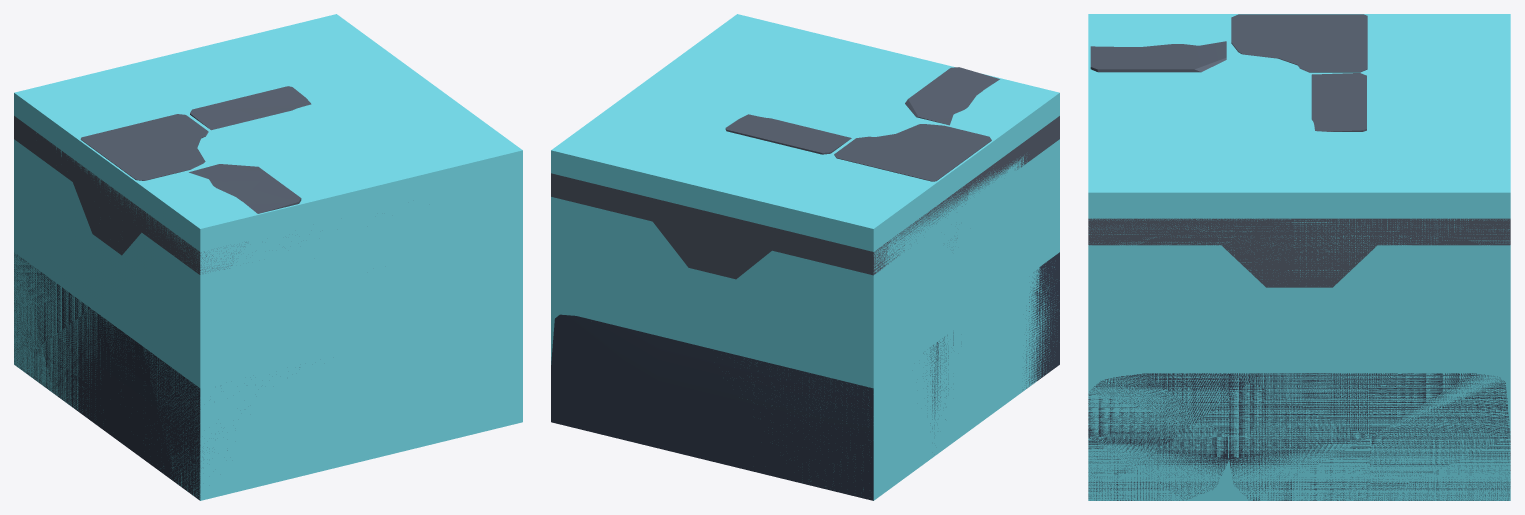
File: PBOX33_FLA_01.FBX
The picture shows the model from 3 angles, left to right: view 1: azimuth 30°, elevation 25°; view 2: azimuth 150°, elevation 25°; view 3: azimuth 270°, elevation 25°; orthographic projection. The views are drawn at different scales.
Parts seen in each view (by area): view 1: PBOX33_FLA_01, PBOX33_SUB_TAB_FlA_002, PBOX33_SUB_FLA_003; view 2: PBOX33_FLA_01, PBOX33_SUB_TAB_FlA_002, PBOX33_SUB_FLA_003; view 3: PBOX33_FLA_01, PBOX33_SUB_TAB_FlA_002, PBOX33_SUB_FLA_003.
Part boxes in pixels (left/top/right/bottom): PBOX33_FLA_01: left=14, top=14, right=522, bottom=500; PBOX33_SUB_TAB_FlA_002: left=14, top=253, right=299, bottom=500; PBOX33_SUB_FLA_003: left=14, top=86, right=311, bottom=274; PBOX33_FLA_01: left=551, top=14, right=1059, bottom=500; PBOX33_SUB_TAB_FlA_002: left=551, top=252, right=1059, bottom=500; PBOX33_SUB_FLA_003: left=551, top=67, right=1059, bottom=279; PBOX33_FLA_01: left=1088, top=14, right=1510, bottom=500; PBOX33_SUB_TAB_FlA_002: left=1088, top=373, right=1510, bottom=500; PBOX33_SUB_FLA_003: left=1088, top=14, right=1510, bottom=287.
Bounding box in the file's own units: 18 × 14.63 × 18.
